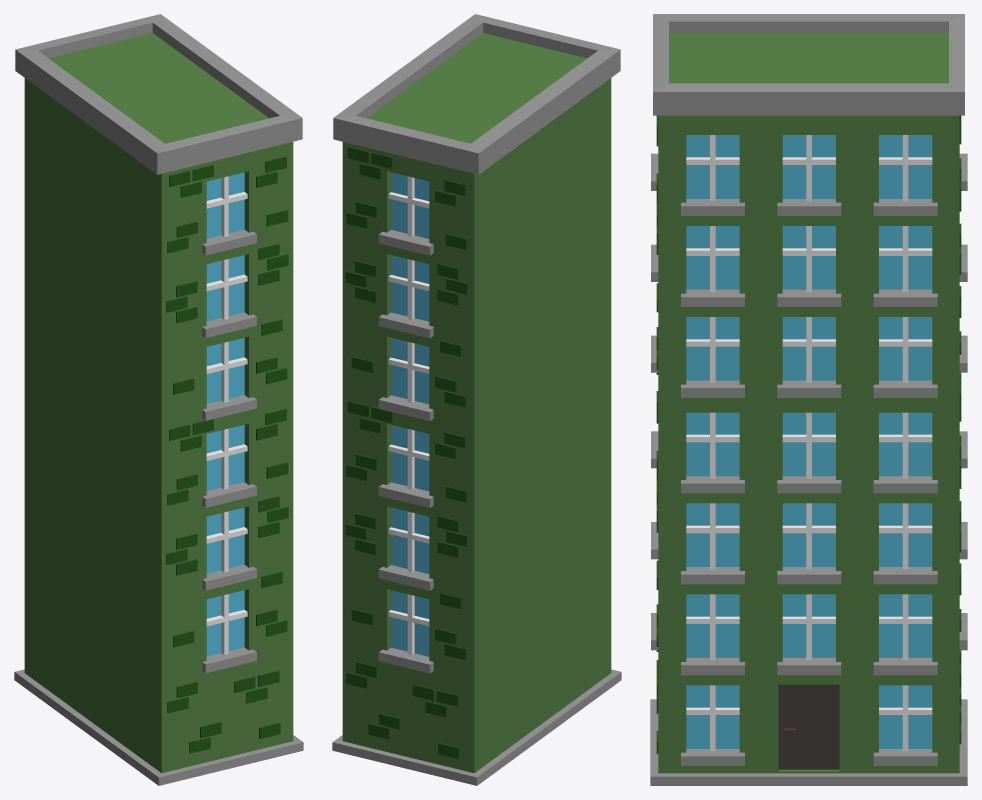
The model's file is Predio3.fbx.
3 views of the same model, side by side, from view 1: azimuth 30°, elevation 25°; view 2: azimuth 150°, elevation 25°; view 3: azimuth 270°, elevation 25° (orthographic). The views are drawn at different scales.
Visible parts, largest first — view 1: Cube, Cube.001, Cube.006, Cube.003, Cube.008; view 2: Cube, Cube.001, Cube.006, Cube.004, Cube.009; view 3: Cube, Cube.001, Cube.006, Cube.002, Cube.007.
Part boxes in pixels (x1,y1,x2,y2): Cube: (14,14,303,785); Cube.001: (202,482,256,673); Cube.006: (202,229,256,420); Cube.003: (206,428,247,655); Cube.008: (206,176,247,402); Cube: (332,14,621,785); Cube.001: (378,482,433,673); Cube.006: (378,230,433,420); Cube.004: (388,429,429,654); Cube.009: (388,176,429,402); Cube: (650,14,967,785); Cube.001: (651,431,967,765); Cube.006: (651,153,967,397); Cube.002: (686,412,932,751); Cube.007: (686,135,932,382).
Bounding box in the file's own units: 2500 × 10387 × 4302.
